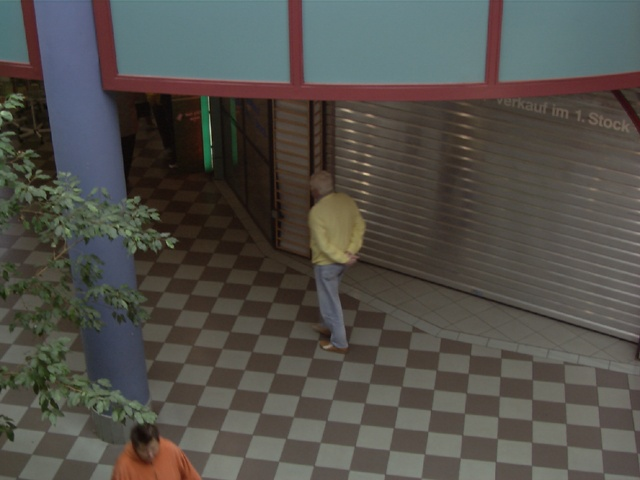person: (302, 166, 366, 356)
